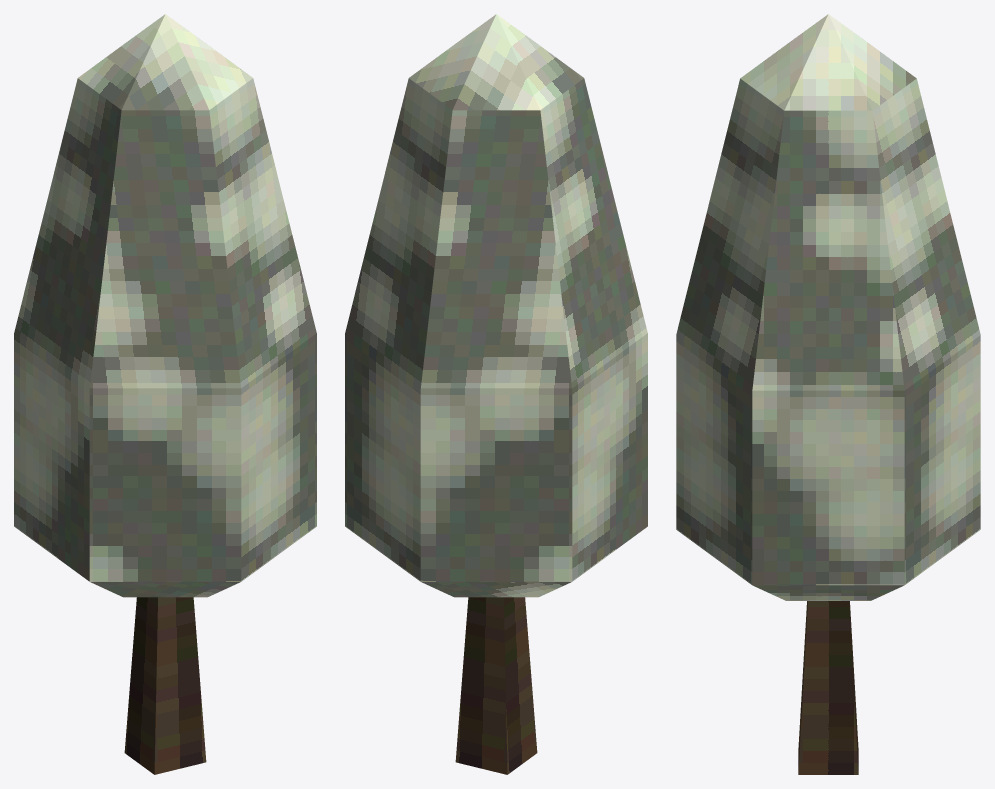
The model's file is nirre.glb.
3 renders of one model, left to right at view 1: azimuth 30°, elevation 25°; view 2: azimuth 150°, elevation 25°; view 3: azimuth 270°, elevation 25°, orthographic.
Parts seen in each view (by area): view 1: nirre; view 2: nirre; view 3: nirre.
Boxes of the visible parts, box(x1,y1,x2,y2) form: nirre: box(14, 14, 316, 774); nirre: box(345, 14, 647, 774); nirre: box(676, 14, 980, 774).
Size of the model in its own units: 1.28 by 4 by 1.48.
Materials: 2 (2 with a texture image).
